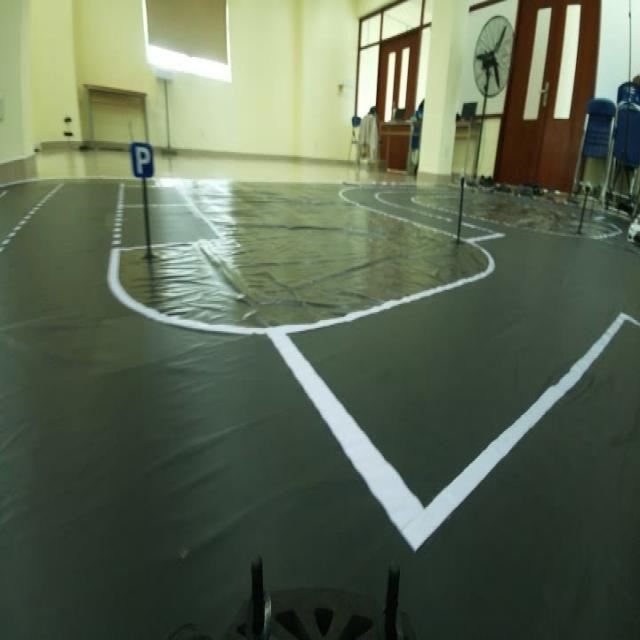parking: (124, 132, 158, 183)
